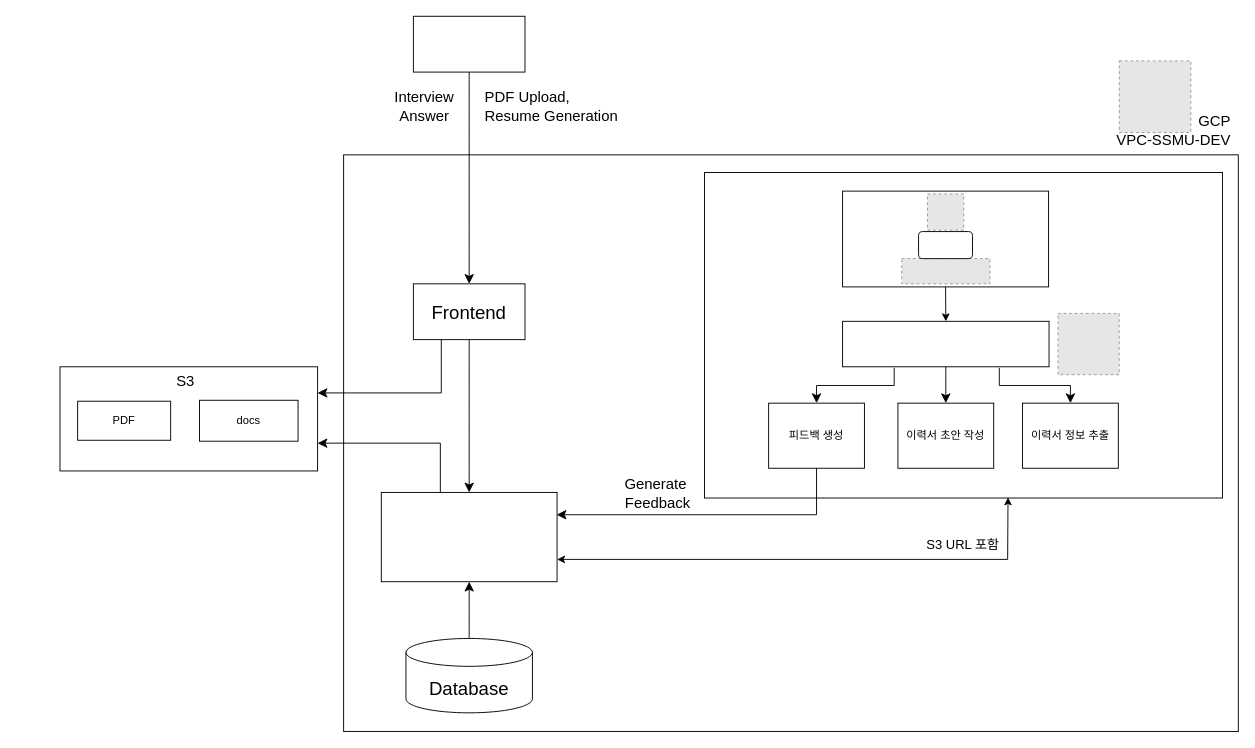
Some shapes in this 1255 by 748 pixel diagram are drawn without their labels. Grey dashed boxes stand in for pictures. Each missing label, with the centre of its shape:
Backend Service Logic, DB Access, User API: [468,537]
FastAPI: [945,343]
LoRA Adapter: [945,245]
user: [468,43]
